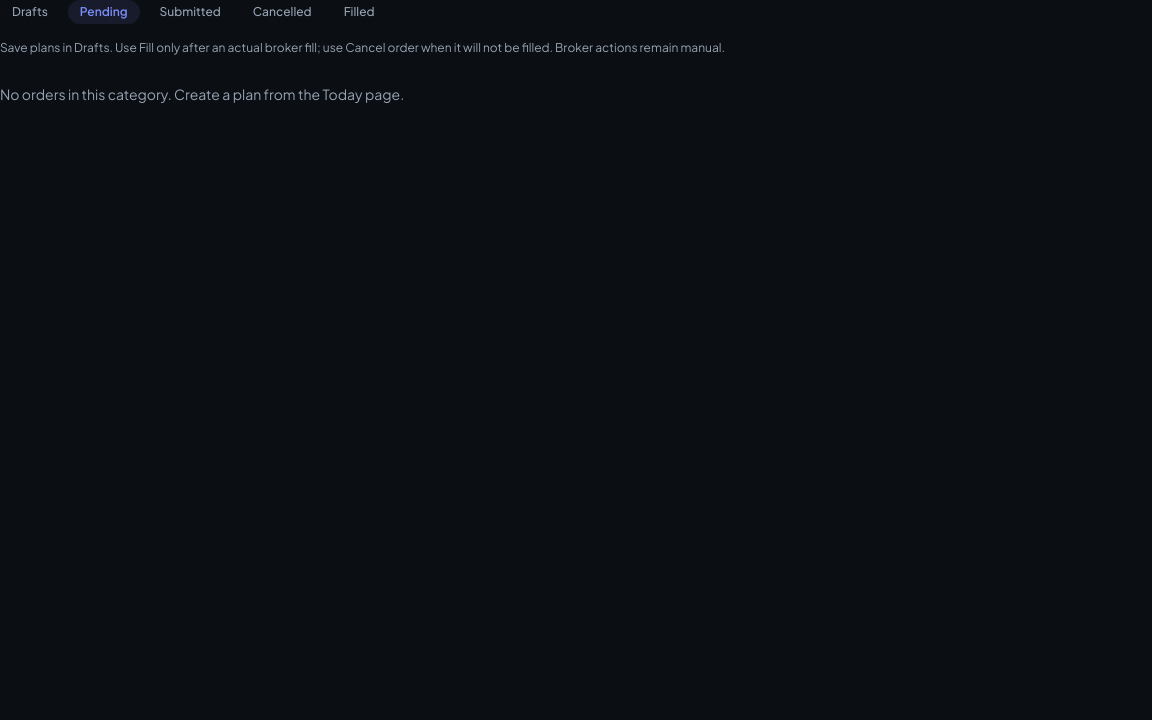
Test: PendingOrdersTab › cancels a submitted order and keeps it visible in cancelled history
Click the button "Submitted" at (190, 12), box x1=148 y1=0 x2=233 y2=24
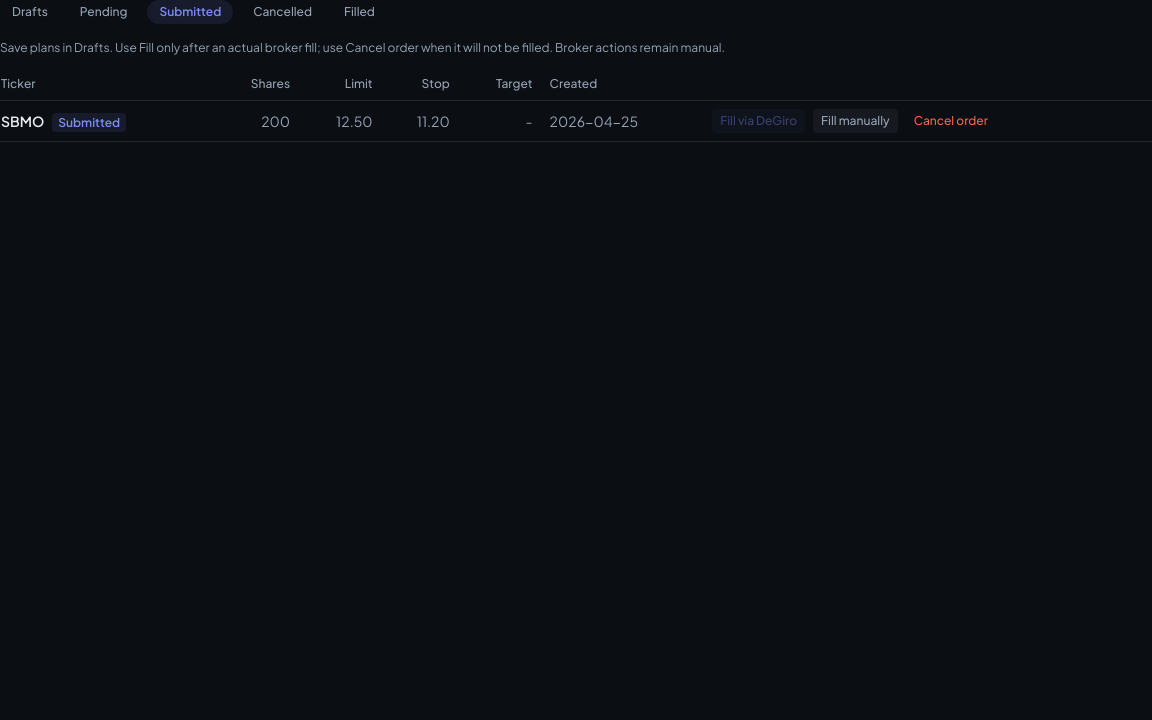
Click the button "Cancel order" at (951, 121), box x1=906 y1=109 x2=996 y2=133
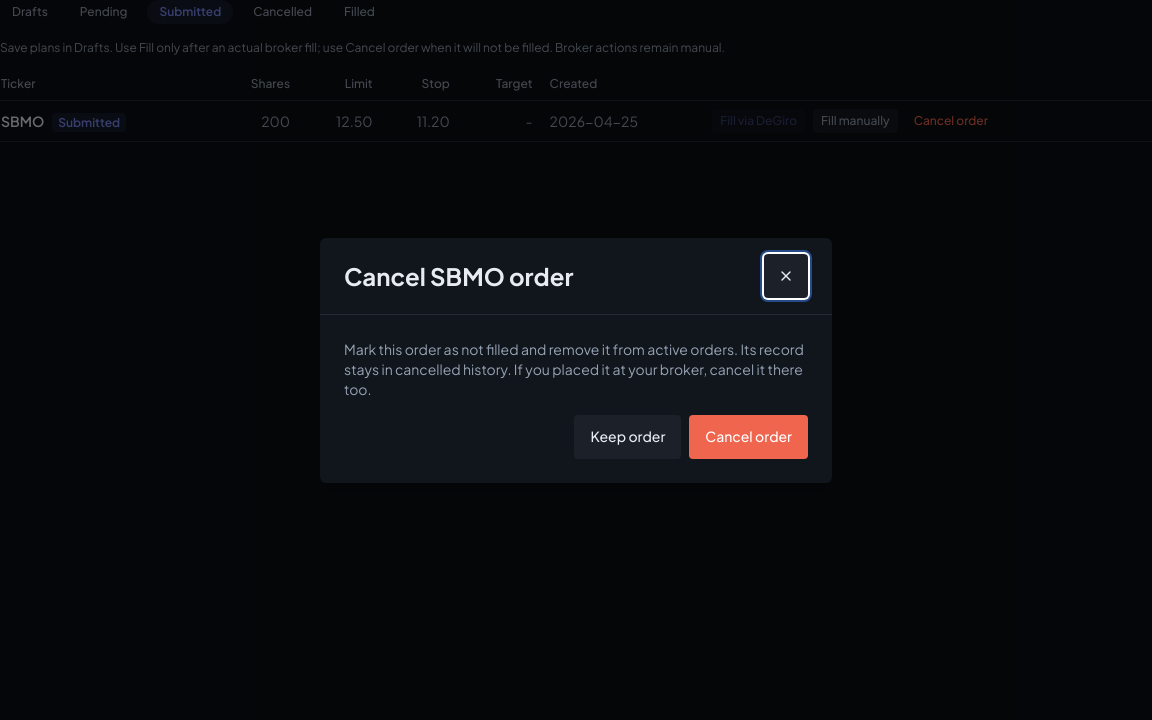
Click the button "Cancel order" at (749, 436), box x1=689 y1=414 x2=808 y2=458
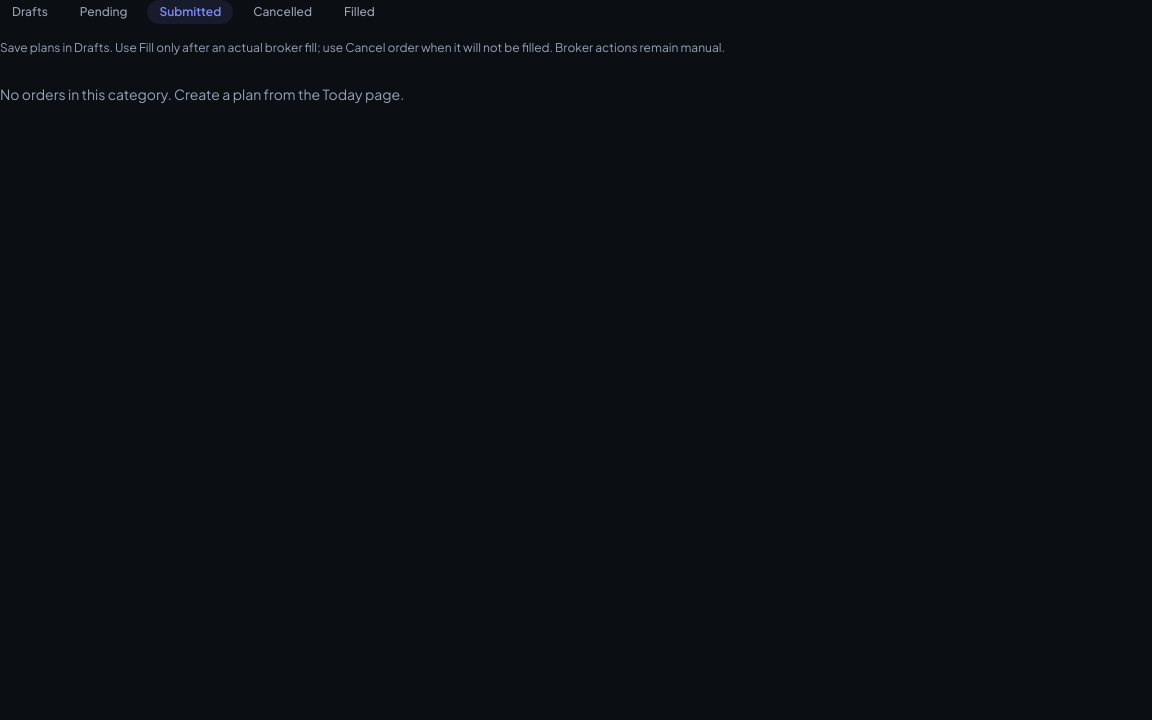
Now the text "SBMO" is gone
Click the button "Cancelled" at (283, 12), box x1=241 y1=0 x2=324 y2=24
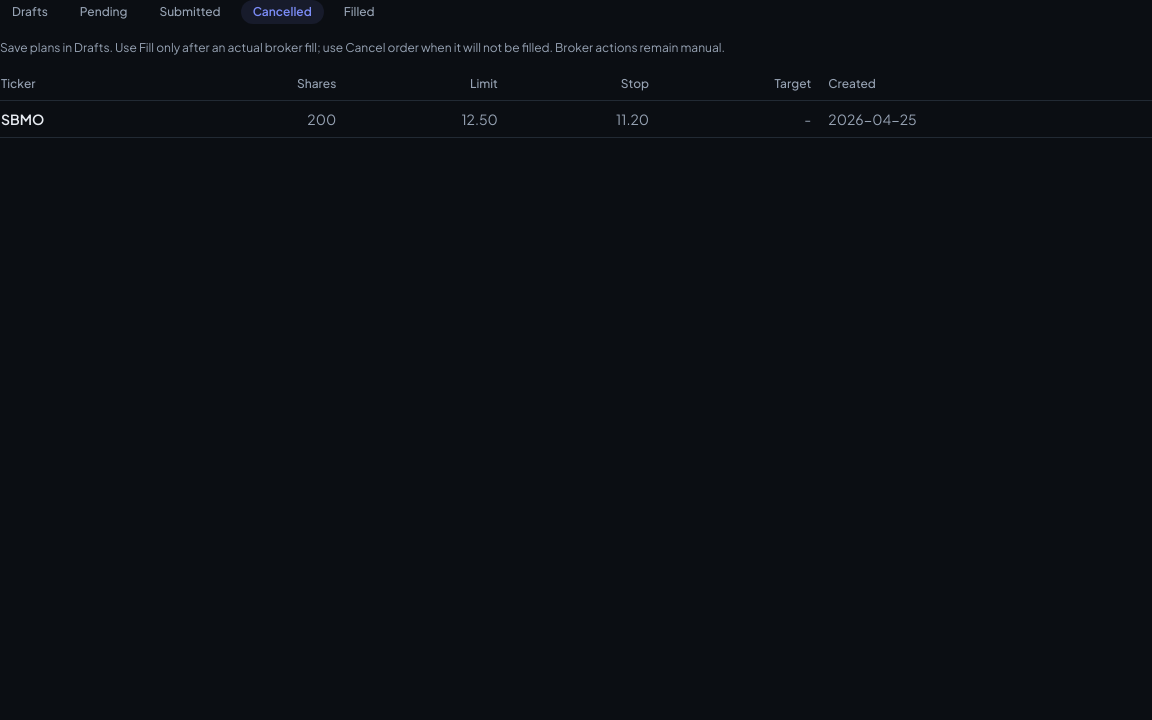
Expected: the button "Fill manually" is not shown
Now the text "SBMO" is shown, box x1=0 y1=100 x2=182 y2=138
